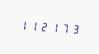one: (17, 17, 26, 32), (27, 18, 36, 33), (48, 19, 57, 34)
seven: (58, 20, 67, 35)
three: (68, 21, 77, 35)
two: (38, 19, 47, 33)
